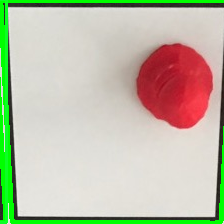Red Bishop: (129, 37, 218, 133)
